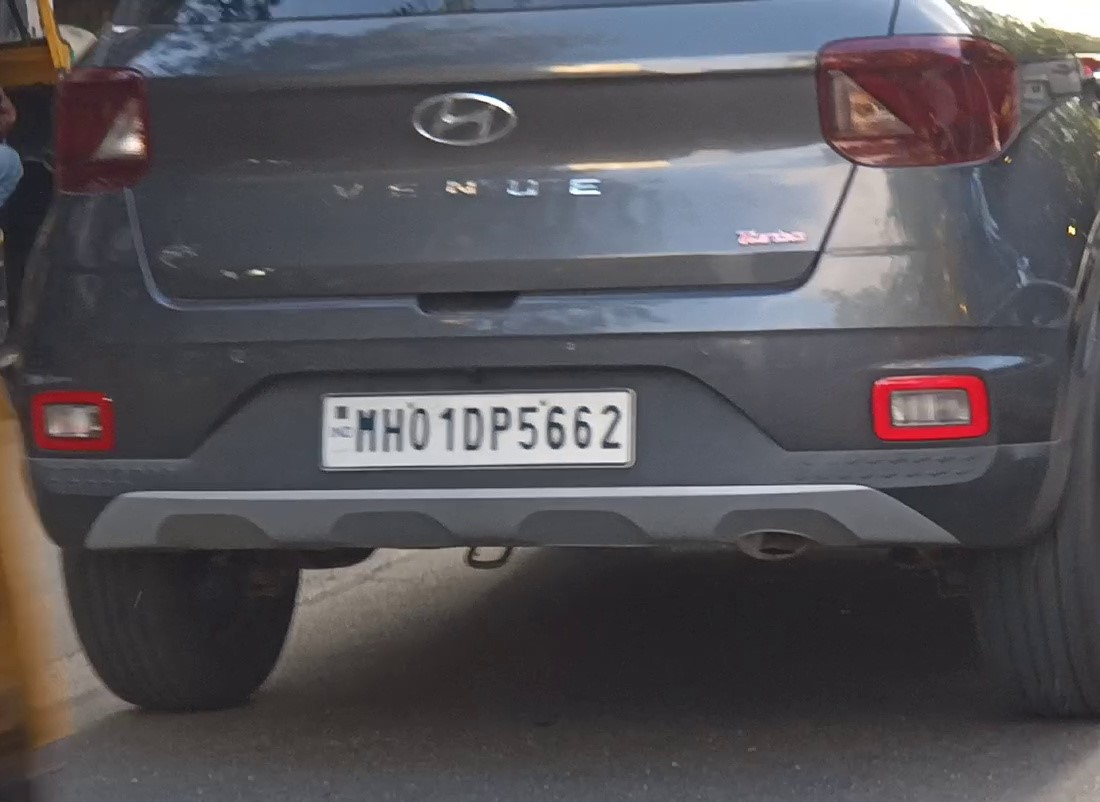MH01DP5662: (320, 393, 633, 466)
